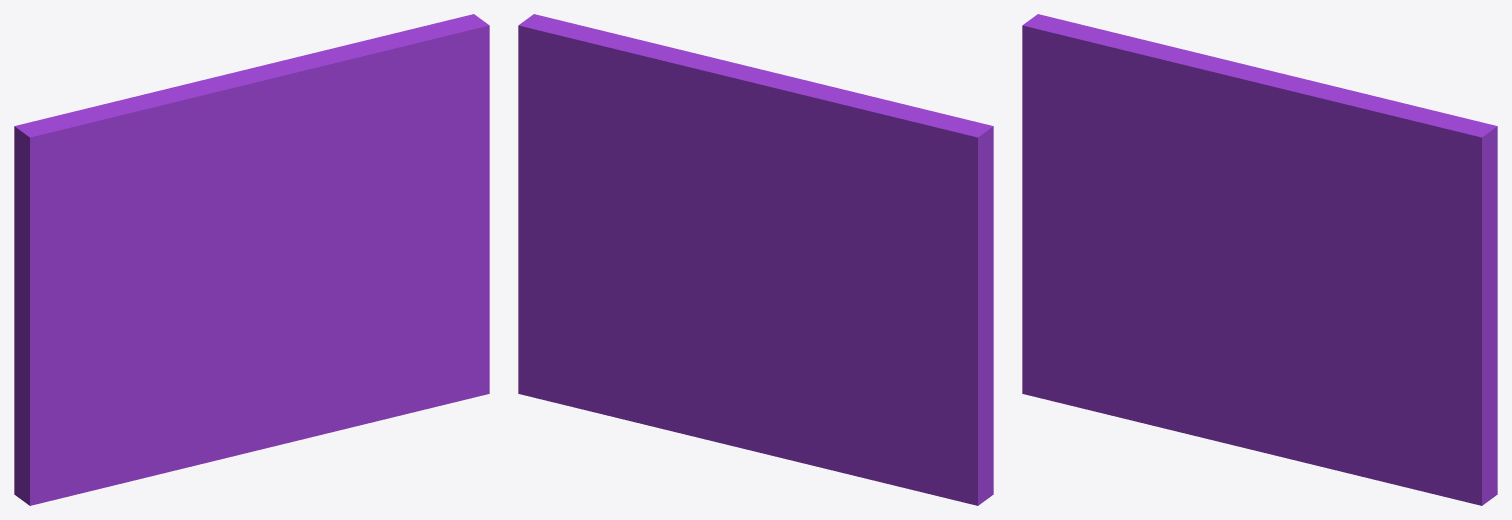
File: Barrier_167_chunks.fbx
The picture shows the model from 3 angles, left to right: view 1: azimuth 30°, elevation 25°; view 2: azimuth 150°, elevation 25°; view 3: azimuth 330°, elevation 25°; orthographic projection.
Visible parts, largest first — view 1: Barrier_167_0, Barrier_167_1, Barrier_167_5, Barrier_167_6, Barrier_167_4, Barrier_167_2, Barrier_167_3; view 2: Barrier_167_0, Barrier_167_1, Barrier_167_3, Barrier_167_6, Barrier_167_5, Barrier_167_4; view 3: Barrier_167_0, Barrier_167_1, Barrier_167_5, Barrier_167_6, Barrier_167_4, Barrier_167_2, Barrier_167_3.
Boxes of the visible parts, x1,y1,x2,y2 form: Barrier_167_0: (14, 114, 251, 505); Barrier_167_1: (216, 155, 489, 460); Barrier_167_5: (73, 53, 349, 189); Barrier_167_6: (315, 14, 489, 189); Barrier_167_4: (231, 157, 418, 252); Barrier_167_2: (247, 200, 396, 312); Barrier_167_3: (63, 86, 280, 240); Barrier_167_0: (752, 113, 993, 505); Barrier_167_1: (518, 150, 799, 462); Barrier_167_3: (672, 97, 934, 257); Barrier_167_6: (518, 14, 684, 193); Barrier_167_5: (673, 48, 940, 119); Barrier_167_4: (608, 169, 761, 264); Barrier_167_0: (1022, 14, 1244, 439); Barrier_167_1: (1209, 251, 1497, 505); Barrier_167_5: (1075, 32, 1342, 200); Barrier_167_6: (1329, 87, 1497, 267); Barrier_167_4: (1223, 195, 1410, 267); Barrier_167_2: (1239, 247, 1388, 309); Barrier_167_3: (1081, 26, 1273, 225).
Bounding box in the file's own units: 376 × 288 × 22.1.
